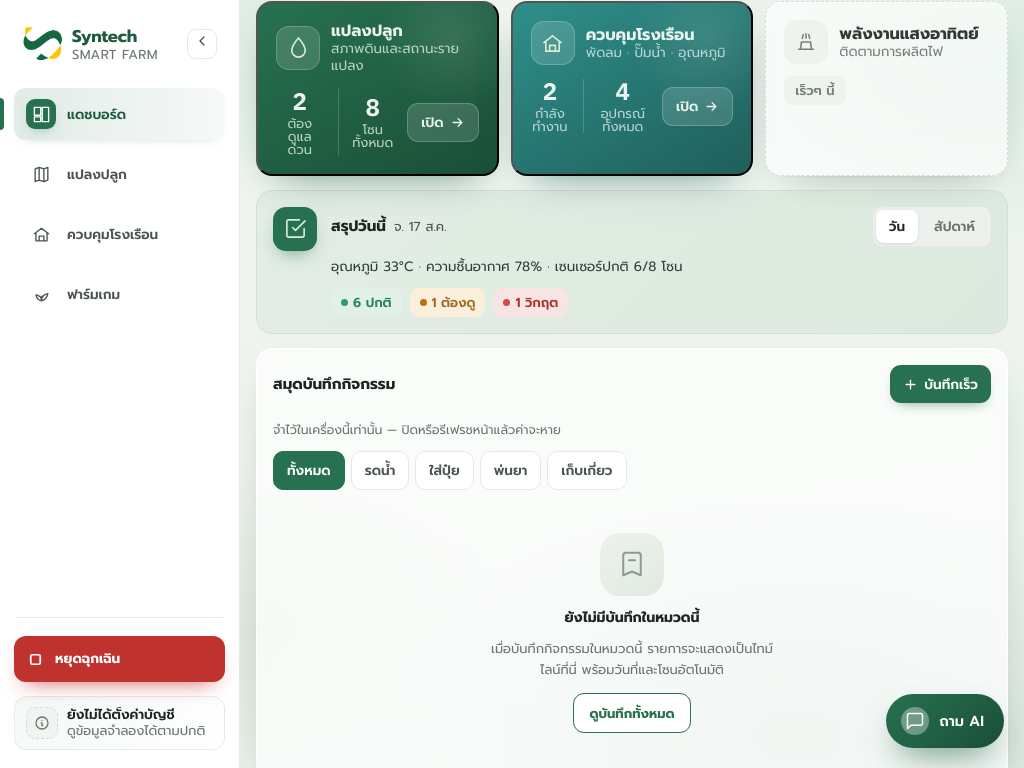
Test: DashboardPage › บันทึกเร็วโดยไม่พิมพ์อะไร ใช้ข้อความเริ่มต้นของหมวดนั้น
(page scrolled)
Click the button "บันทึกเร็ว".
click(941, 384)  # box x1=890 y1=365 x2=991 y2=403
(page scrolled)
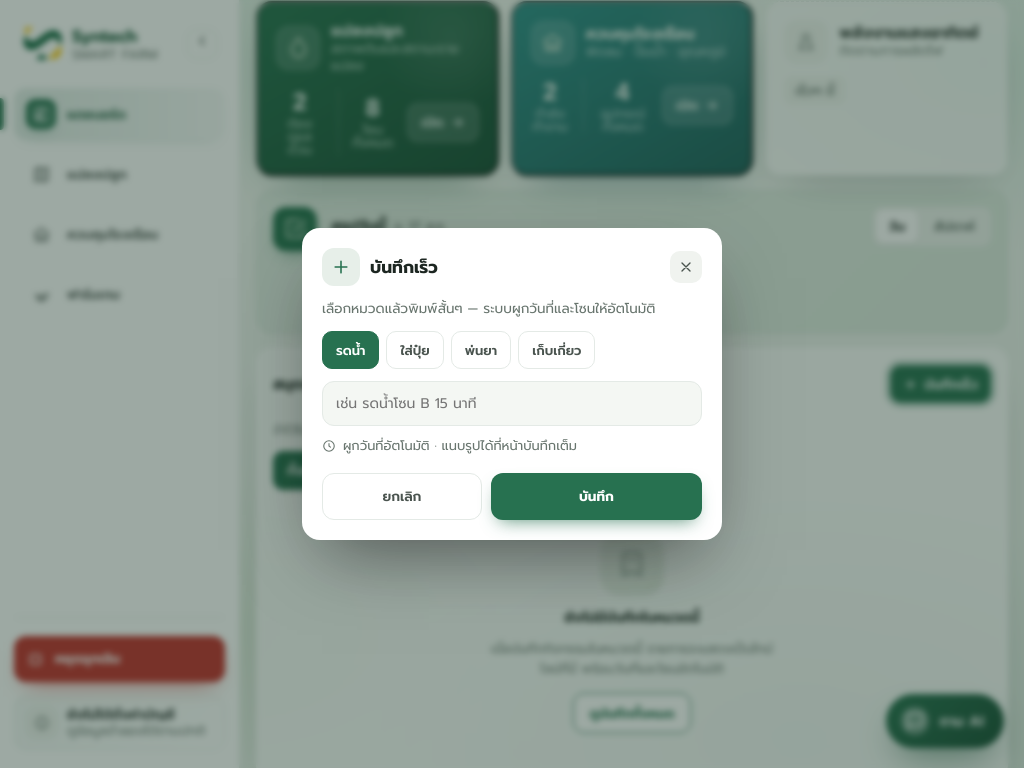
Click the button "บันทึก".
click(596, 497)  # box x1=491 y1=473 x2=702 y2=520
(page scrolled)
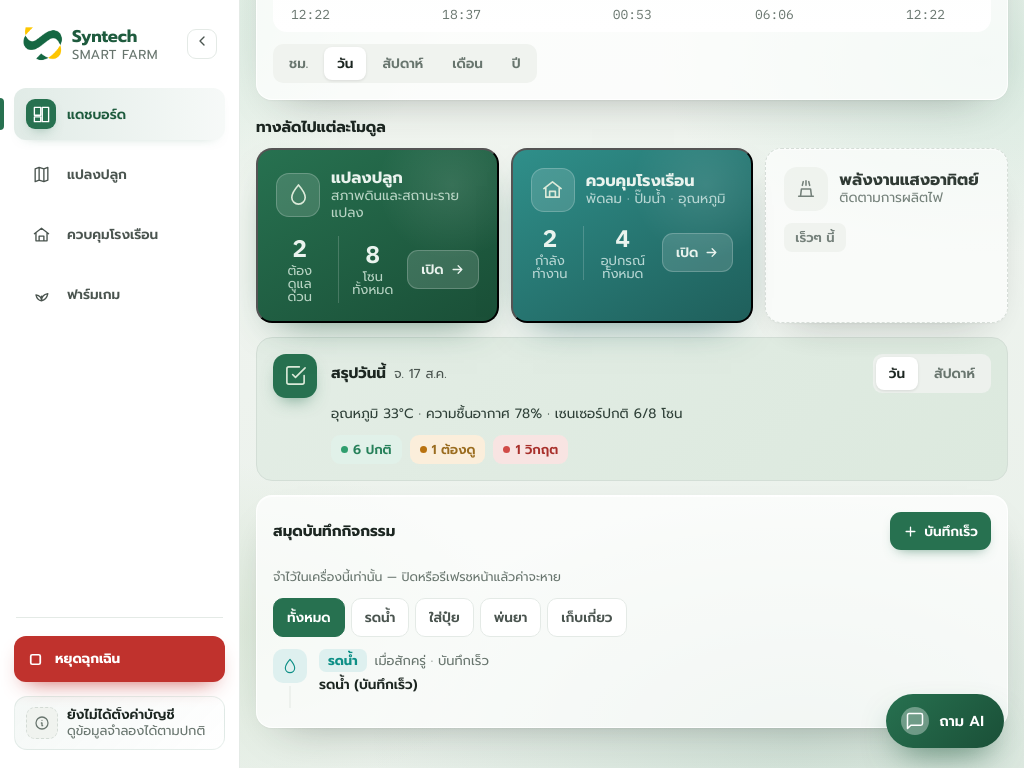
Result: the text "รดน้ำ (บันทึกเร็ว)" is shown at x1=319 y1=674 x2=418 y2=695
